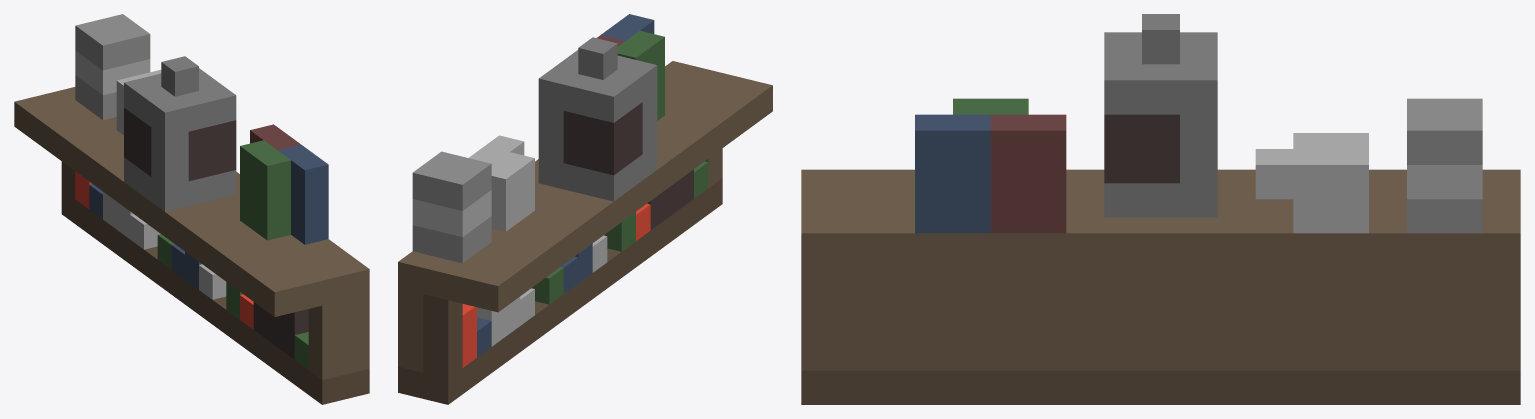
The model's file is Corner Cafe-9.obj.
3 views of the same model, side by side, from view 1: azimuth 30°, elevation 25°; view 2: azimuth 150°, elevation 25°; view 3: azimuth 270°, elevation 25° (orthographic). The views are drawn at different scales.
Bounding box in the file's own units: 0.4 × 1 × 1.9.
Materials: 1 (1 with a texture image).
